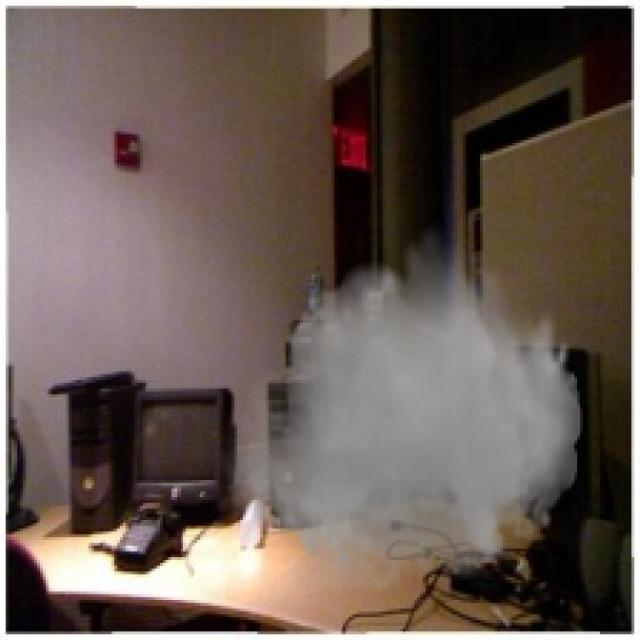Smoke: (214, 217, 592, 609)
